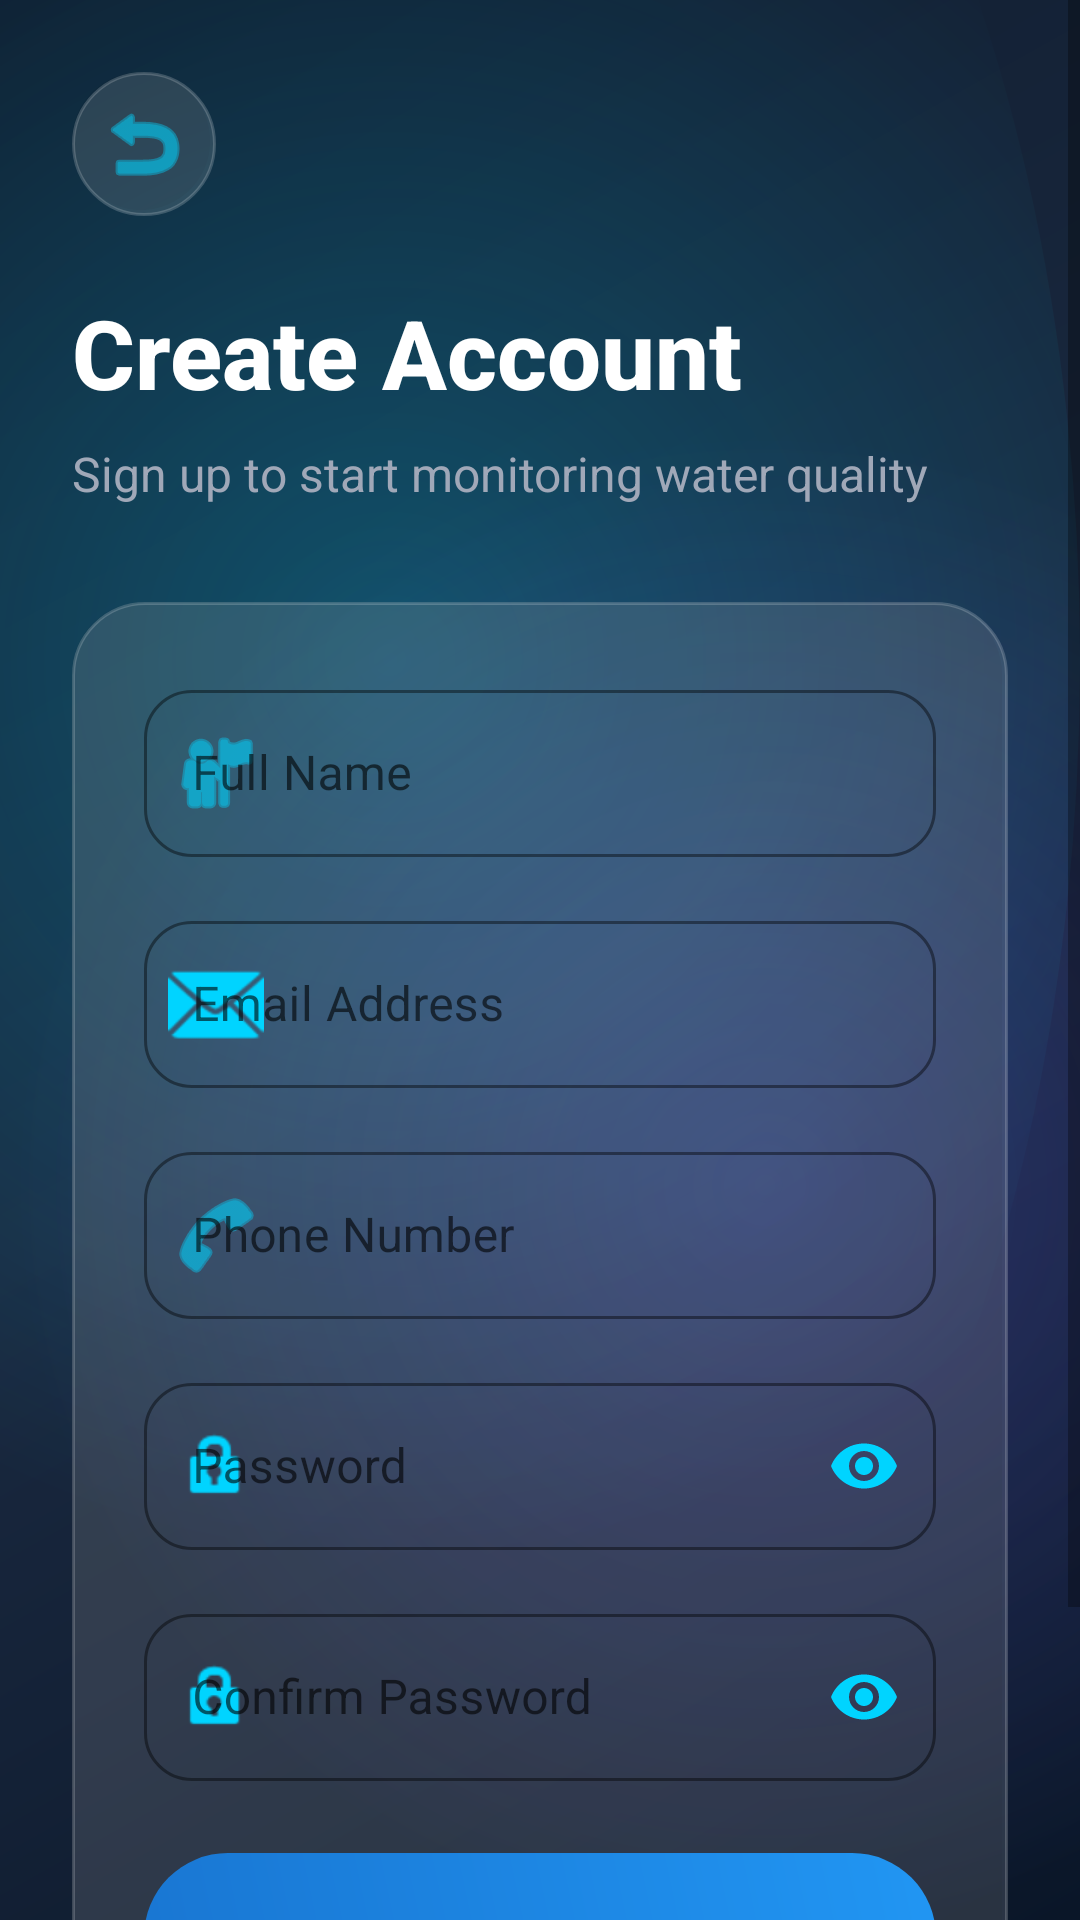

Icons on this 1080×1920 Android screen, each with the point to tap as (x,y):
revert: (144,144)
